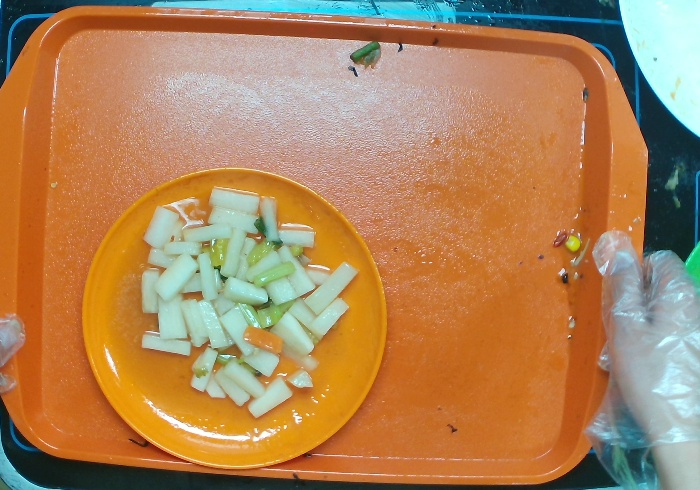HZYJPL-Ju_Huang_Yuan_Pan: (78, 164, 391, 473)
